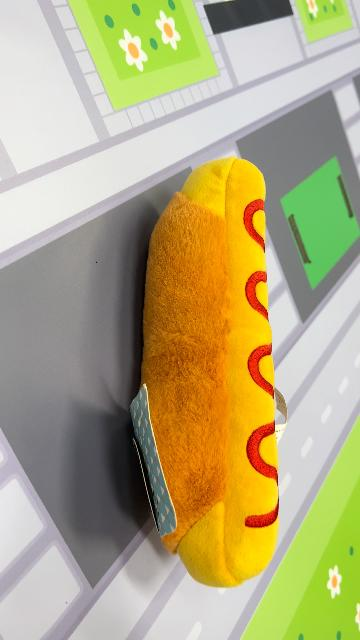hotdog: (133, 155, 282, 589)
